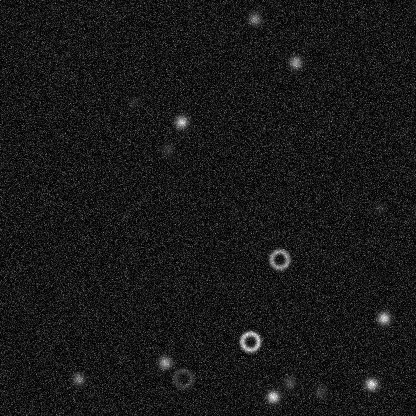Ring: (267, 247, 291, 271), (238, 329, 262, 353), (170, 366, 194, 390)
Spot: (287, 54, 303, 70), (312, 383, 328, 399), (281, 374, 297, 390), (371, 200, 387, 216), (375, 310, 391, 326), (70, 370, 86, 386), (125, 93, 141, 109), (156, 354, 172, 370), (159, 141, 175, 157), (363, 376, 379, 392), (264, 388, 280, 404), (173, 113, 189, 129), (246, 11, 262, 27)
